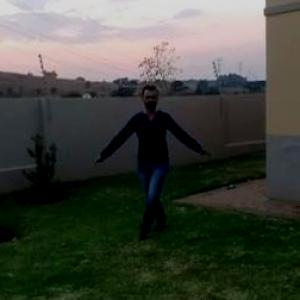land: (90, 70, 206, 243)
